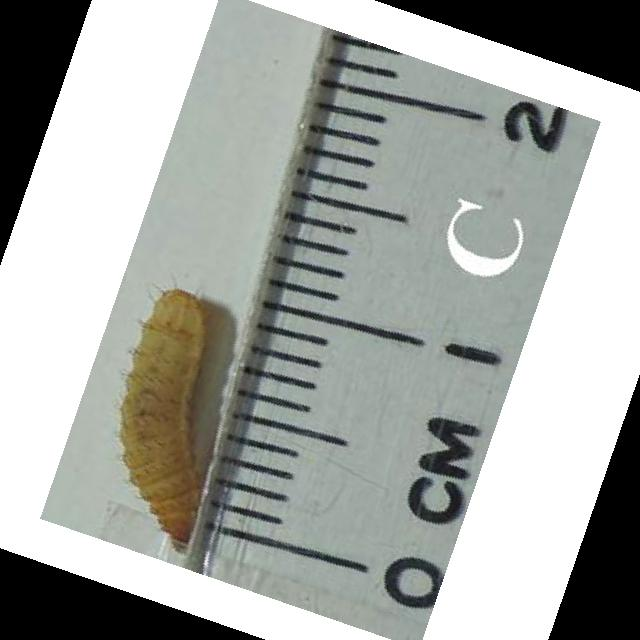Maggot: (116, 285, 216, 552)
